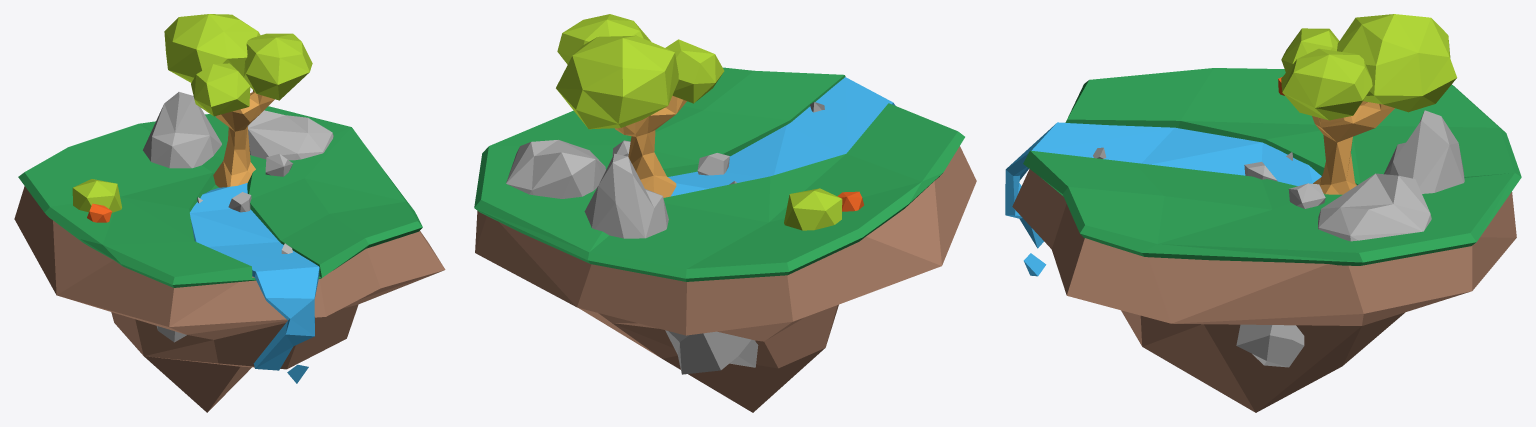
3 renders of one model, left to right at view 1: azimuth 30°, elevation 25°; view 2: azimuth 150°, elevation 25°; view 3: azimuth 270°, elevation 25°, orthographic. The views are drawn at different scales.
Parts seen in each view (by area): view 1: Land_5, Island_0, Tree_3, River_6, Rock_4; view 2: Land_5, Island_0, Tree_3, Rock_4, River_6; view 3: Land_5, Island_0, Tree_3, Rock_4, River_6.
Part boxes in pixels (bbox=[...]): Land_5: bbox=[18, 106, 422, 287]; Island_0: bbox=[14, 186, 445, 412]; Tree_3: bbox=[72, 14, 312, 222]; River_6: bbox=[190, 183, 319, 383]; Rock_4: bbox=[143, 92, 333, 342]; Land_5: bbox=[474, 67, 964, 281]; Island_0: bbox=[475, 146, 976, 412]; Tree_3: bbox=[556, 14, 863, 230]; Rock_4: bbox=[506, 102, 824, 374]; River_6: bbox=[668, 77, 895, 196]; Land_5: bbox=[1023, 68, 1521, 265]; Island_0: bbox=[1012, 169, 1516, 412]; Tree_3: bbox=[1278, 14, 1456, 194]; Rock_4: bbox=[1093, 110, 1464, 367]; River_6: bbox=[1005, 122, 1321, 276].
Bounding box in the file's own units: 38.66 × 36.67 × 40.9.
